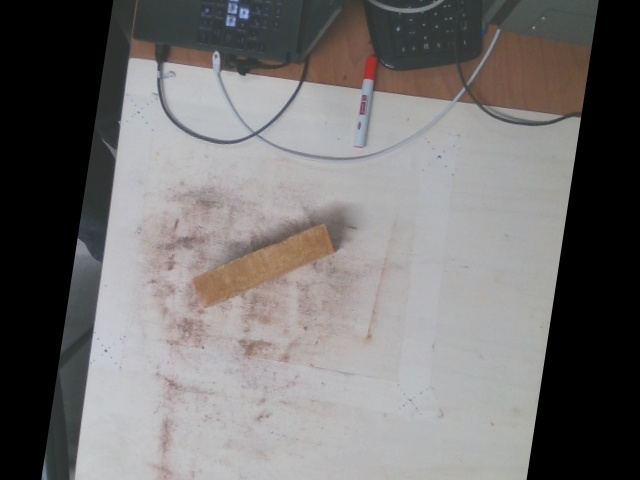brick-side: (194, 221, 335, 309)
